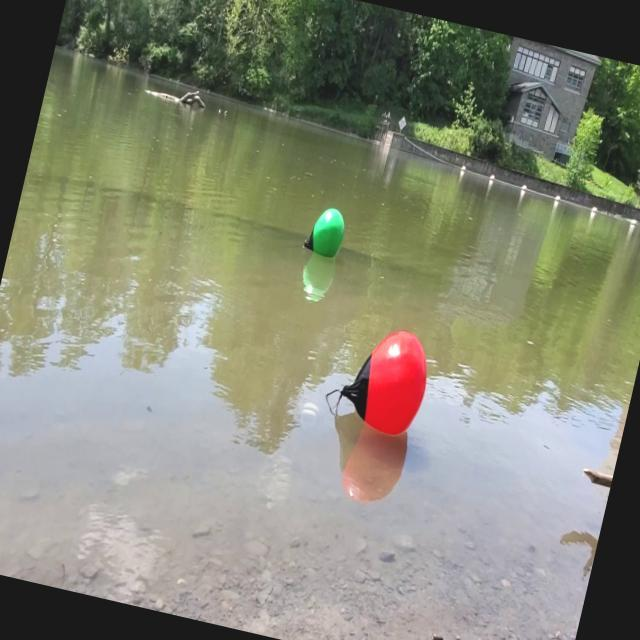buoy: (317, 310, 441, 444), (296, 198, 352, 265)
